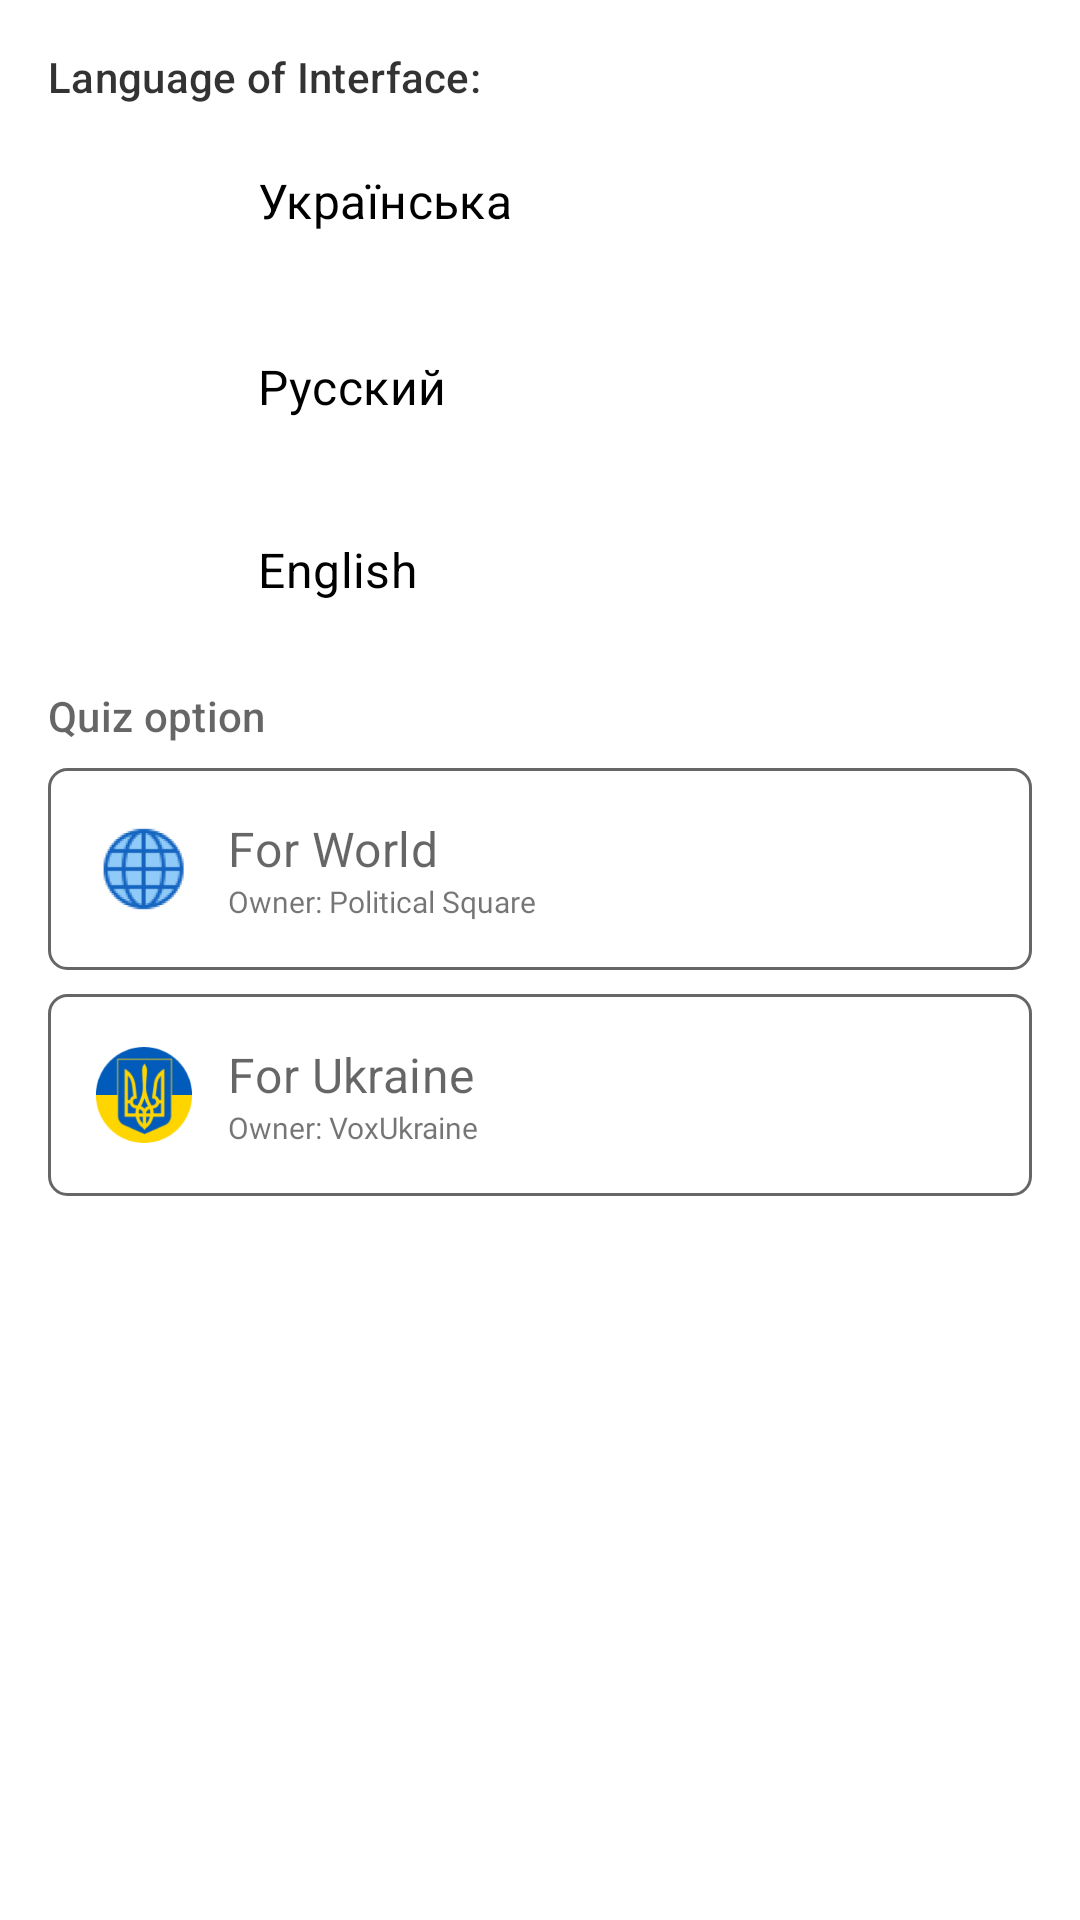

Named icons in this screenshot (1080w x 1920h) and their bounding boxes, box(x1, y1, x2, y2):
ukraine quiz: box(96, 1047, 192, 1143)
world quiz: box(103, 828, 184, 910)
